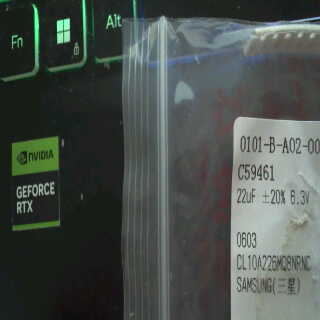22uF: (234, 184, 257, 206)
